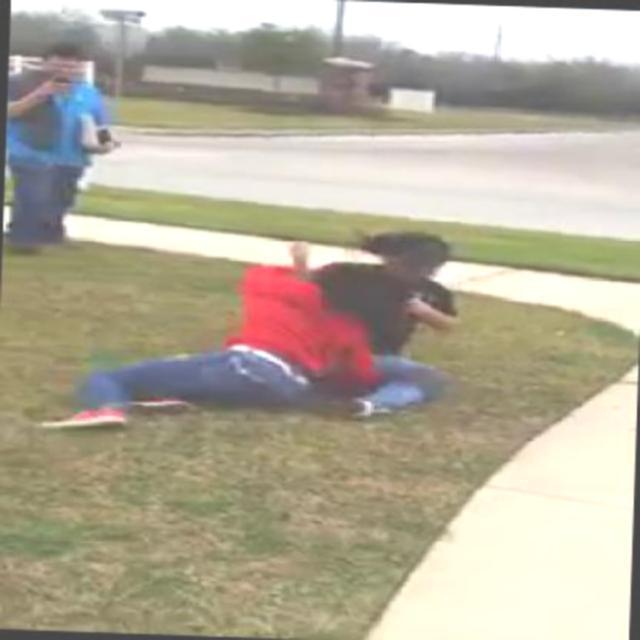fight: (98, 221, 474, 428)
non-fight: (2, 40, 116, 258)
